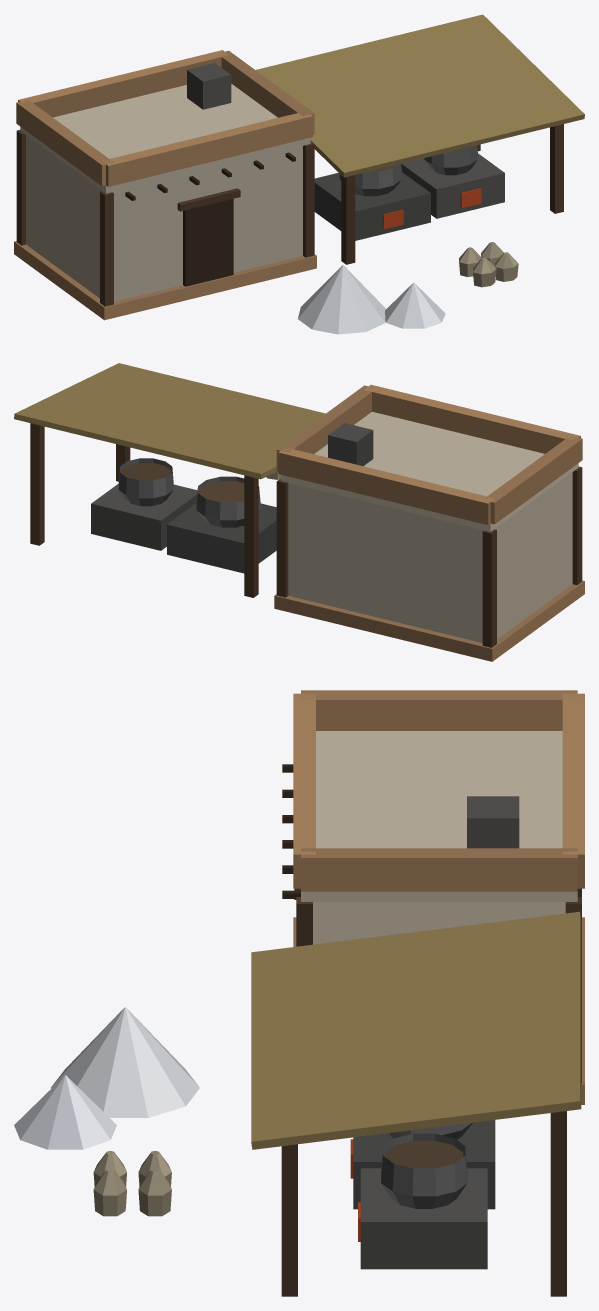
The model's file is walk_sunborn_saltworks.glb.
The picture shows the model from 3 angles, top to bottom: view 1: azimuth 30°, elevation 25°; view 2: azimuth 150°, elevation 25°; view 3: azimuth 270°, elevation 25°; orthographic projection. The views are drawn at different scales.
Visible parts, largest first — view 1: walk_sunborn_saltworks, walk_sunborn_saltworks_roof; view 2: walk_sunborn_saltworks, walk_sunborn_saltworks_roof; view 3: walk_sunborn_saltworks_roof, walk_sunborn_saltworks.
Part boxes in pixels (x1,y1,x2,y2): walk_sunborn_saltworks: [14, 124, 563, 334]; walk_sunborn_saltworks_roof: [16, 14, 584, 193]; walk_sunborn_saltworks: [30, 423, 584, 661]; walk_sunborn_saltworks_roof: [14, 363, 582, 531]; walk_sunborn_saltworks_roof: [251, 690, 584, 1149]; walk_sunborn_saltworks: [14, 764, 584, 1296].
Size of what is drawn, in the model's own units: 11.65 by 3.91 by 7.64.
2 materials, 2 textured.
